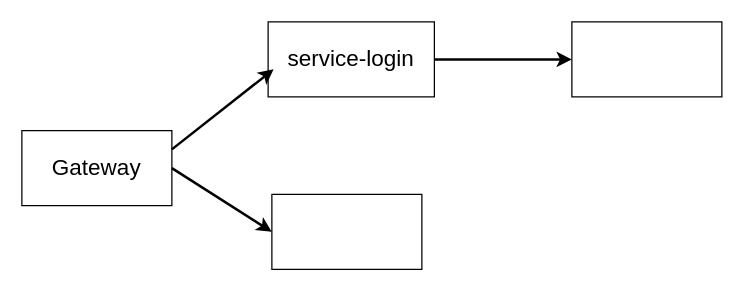
Image size: 744x291. Some labels were removed from this diagram. Here are the shapes that lost their labels. From the top down, the box of each, then its label:
(571, 21, 722, 97): postgres
(271, 193, 422, 269): service2
